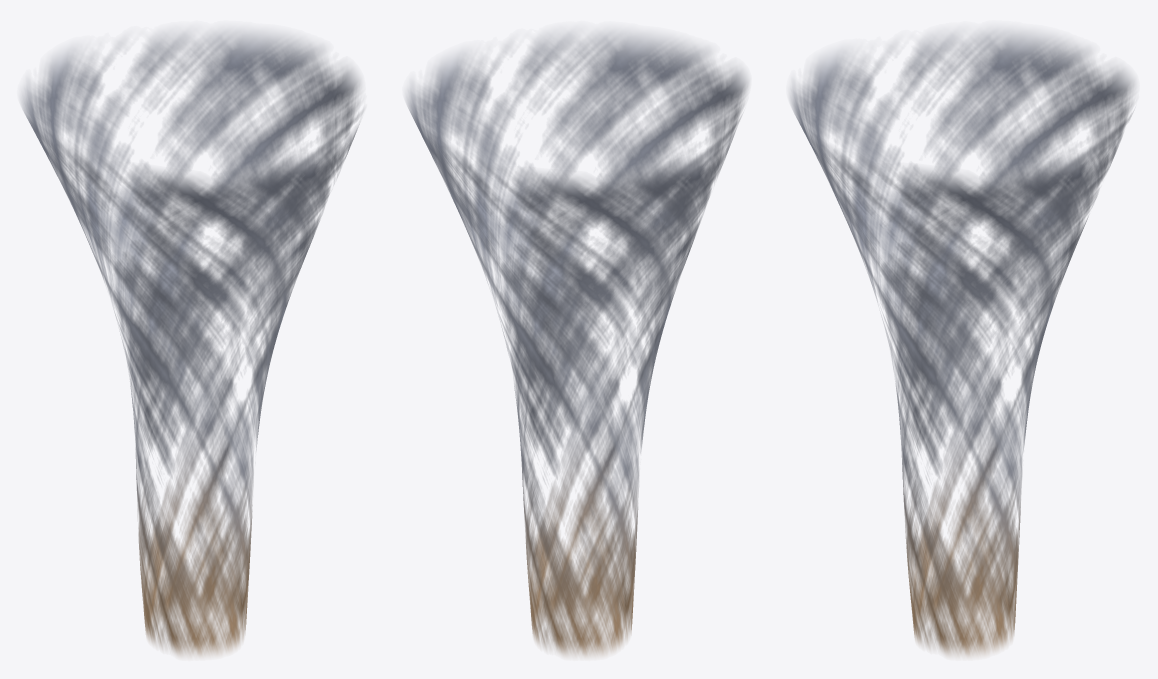
The model's file is funnel_mid.glb.
3 renders of one model, left to right at view 1: azimuth 30°, elevation 25°; view 2: azimuth 150°, elevation 25°; view 3: azimuth 270°, elevation 25°, orthographic.
Visible parts, largest first — view 1: g0; view 2: g0; view 3: g0.
Boxes of the visible parts, x1=… form: g0: x1=20, y1=28, x2=363, y2=656; g0: x1=405, y1=29, x2=748, y2=657; g0: x1=789, y1=28, x2=1134, y2=656.
Size of the model in its own units: 27.61 by 47.52 by 27.95.
Materials: 1 (1 with a texture image).
